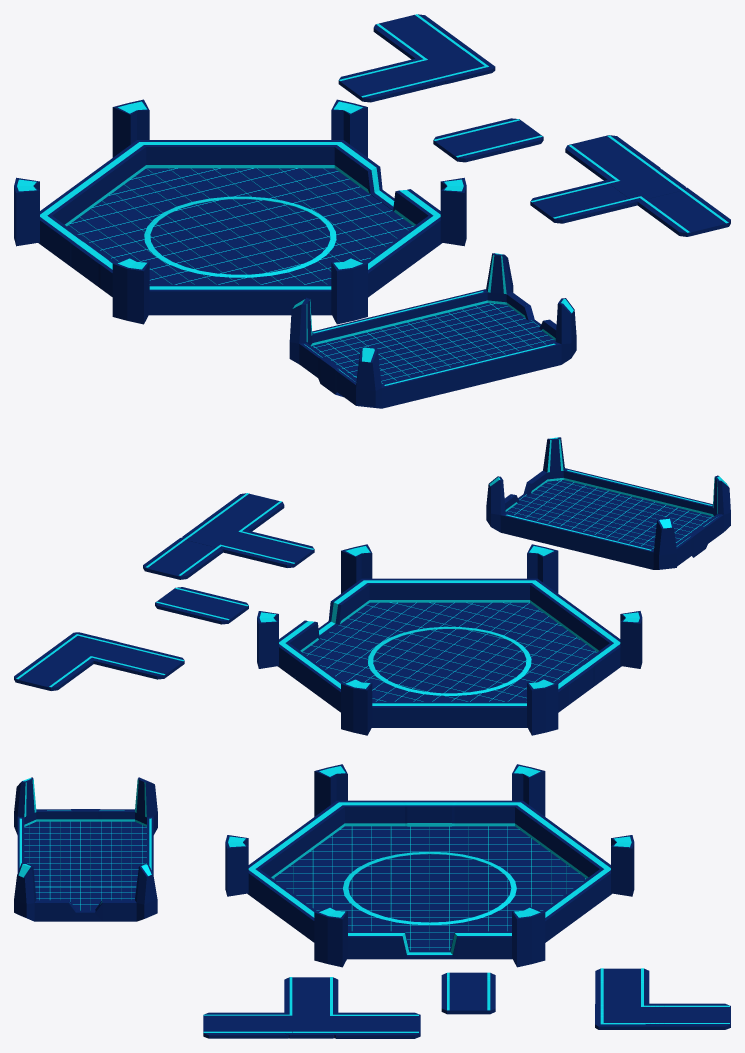
File: Map boss new fULL CRACK (1).fbx
The picture shows the model from 3 angles, top to bottom: view 1: azimuth 30°, elevation 25°; view 2: azimuth 150°, elevation 25°; view 3: azimuth 270°, elevation 25°; orthographic projection. The views are drawn at different scales.
Parts seen in each view (by area): view 1: Cylinder.001, Plane, Cube, Plane.001, Plane.005, Cube.001, Cube.002, Cube.003, Cylinder, Cube.004; view 2: Cylinder.001, Plane, Cube, Plane.001, Plane.005, Cube.001, Cube.002, Cube.003, Cylinder, Cube.004; view 3: Cylinder.001, Plane, Plane.001, Cube, Plane.005, Cube.001, Cube.003, Cube.002, Cylinder, Cube.004.
Boxes of the visible parts, x1,y1,x2,y2 form: Cylinder.001: (14, 99, 466, 324); Plane: (67, 168, 413, 284); Cube: (289, 253, 576, 408); Plane.001: (312, 303, 555, 384); Plane.005: (530, 135, 730, 236); Cube.001: (433, 118, 543, 162); Cube.002: (338, 58, 447, 102); Cube.003: (373, 14, 468, 60); Cylinder: (144, 196, 336, 277); Cube.004: (417, 47, 495, 84); Cylinder.001: (257, 544, 642, 735); Plane: (302, 602, 597, 701); Cube: (486, 437, 730, 569); Plane.001: (505, 480, 712, 549); Plane.005: (143, 493, 314, 579); Cube.001: (155, 587, 248, 624); Cube.002: (93, 642, 184, 679); Cube.003: (14, 648, 94, 690); Cylinder: (368, 626, 531, 695); Cube.004: (51, 632, 117, 660); Cylinder.001: (225, 764, 634, 967); Plane: (273, 826, 586, 950); Plane.001: (24, 821, 146, 910); Cube: (14, 777, 157, 921); Plane.005: (203, 977, 420, 1038); Cube.001: (441, 972, 495, 1014); Cube.003: (641, 1003, 730, 1029); Cube.002: (595, 968, 649, 1006); Cylinder: (343, 852, 516, 924); Cube.004: (595, 1003, 650, 1029).
Size of the model in its own units: 2376 by 331 by 3000.
